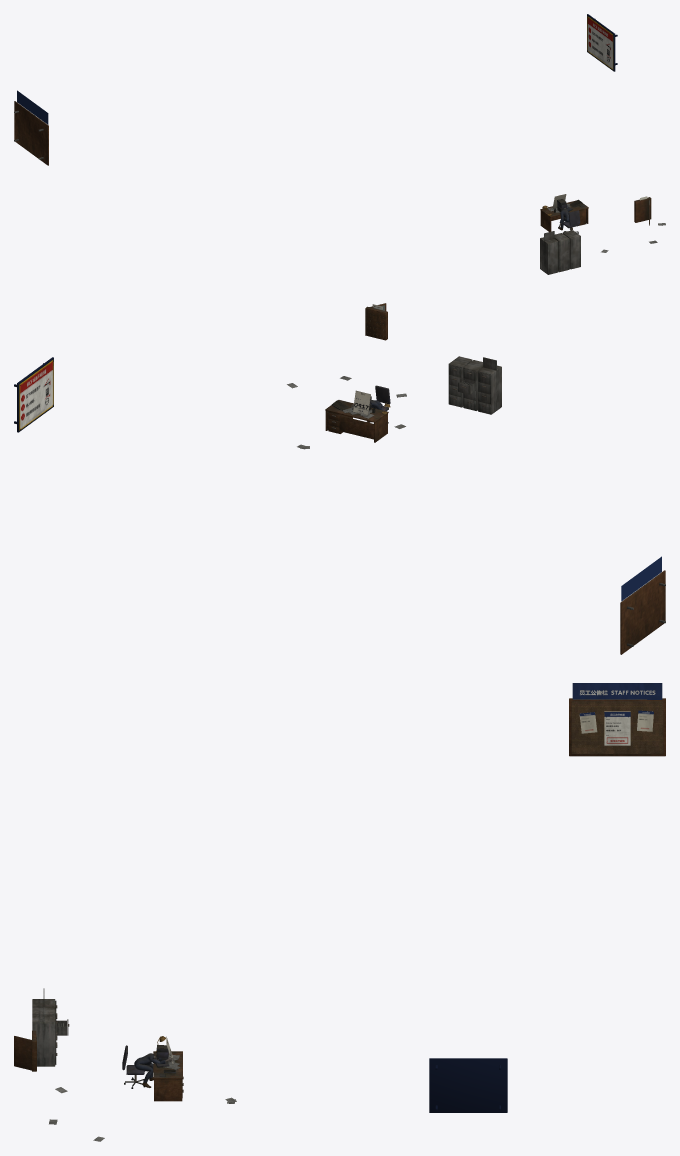
Rendered from manager-office.glb.
3 views of the same model, one above another, from view 1: azimuth 30°, elevation 25°; view 2: azimuth 150°, elevation 25°; view 3: azimuth 270°, elevation 25° (orthographic). The views are drawn at different scales.
Visible parts, largest first — view 1: office, guide-placard, stencils; view 2: office, guide-placard, stencils; view 3: office, guide-placard, stencils, delroy-form.
Part boxes in pixels (x1=…): office: x1=14, y1=101, x2=665, y2=274; guide-placard: x1=587, y1=14, x2=617, y2=71; stencils: x1=17, y1=90, x2=647, y2=200; office: x1=287, y1=303, x2=665, y2=654; guide-placard: x1=14, y1=357, x2=53, y2=432; stencils: x1=372, y1=304, x2=661, y2=601; office: x1=14, y1=698, x2=665, y2=1141; guide-placard: x1=429, y1=1058, x2=507, y2=1112; stencils: x1=572, y1=683, x2=662, y2=733; delroy-form: x1=604, y1=711, x2=630, y2=749.
Size of the model in its own units: 23.4 by 4.24 by 17.48.
4 materials, 4 textured.
